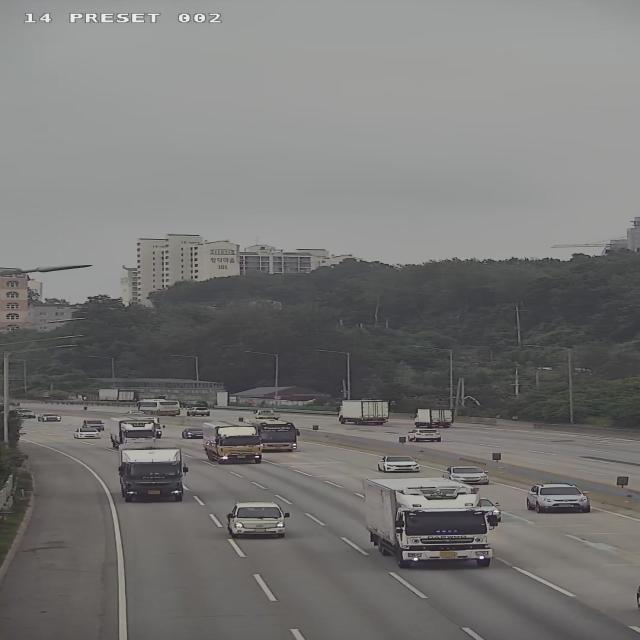Bus: (259, 415, 295, 456), (132, 397, 179, 420)
Car: (121, 444, 188, 504), (528, 484, 592, 514), (438, 461, 494, 487), (377, 456, 422, 472), (77, 413, 107, 432), (68, 425, 98, 442), (37, 409, 67, 425), (408, 429, 442, 443), (184, 418, 206, 439), (184, 403, 209, 420), (15, 407, 38, 418)
Truck: (361, 479, 497, 569), (203, 422, 263, 464), (227, 502, 290, 539), (104, 414, 157, 449), (337, 399, 390, 426), (410, 407, 455, 428), (246, 408, 281, 422)
